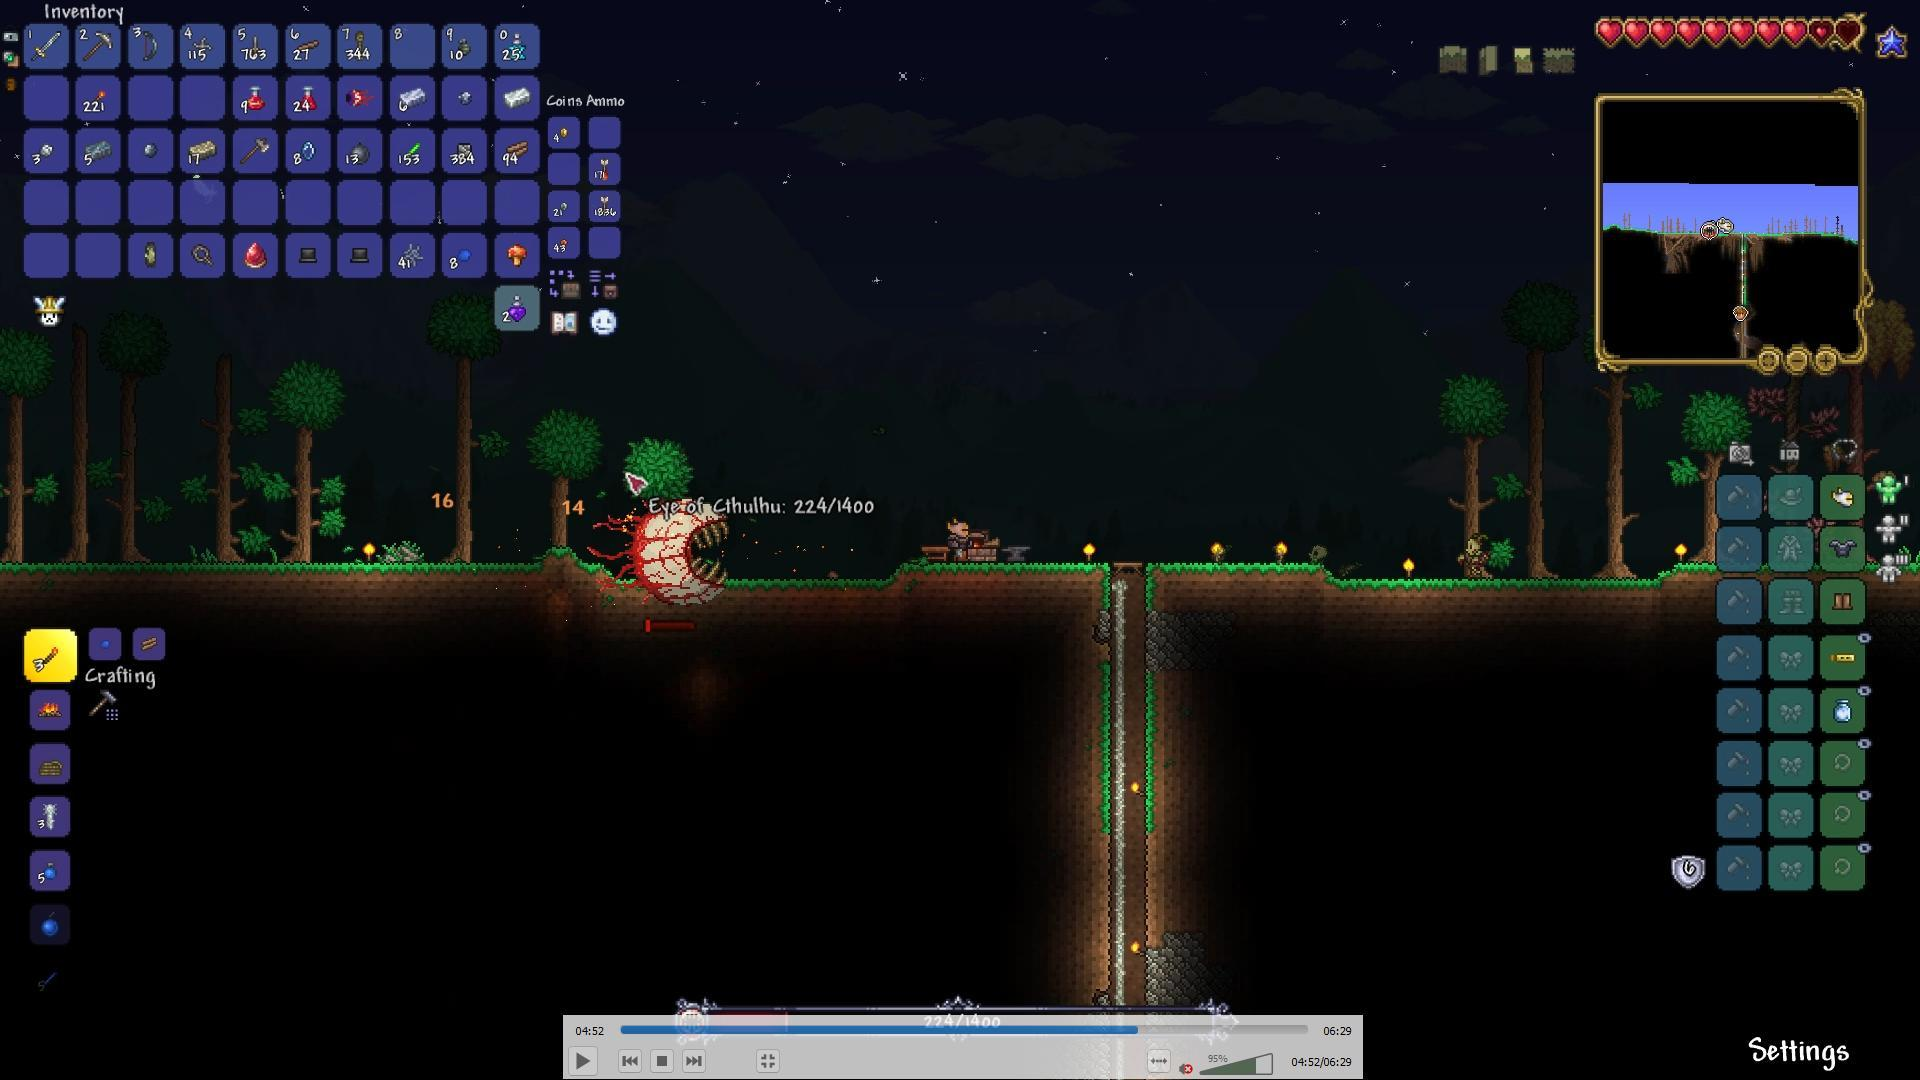eyeC: (582, 488, 741, 617)
